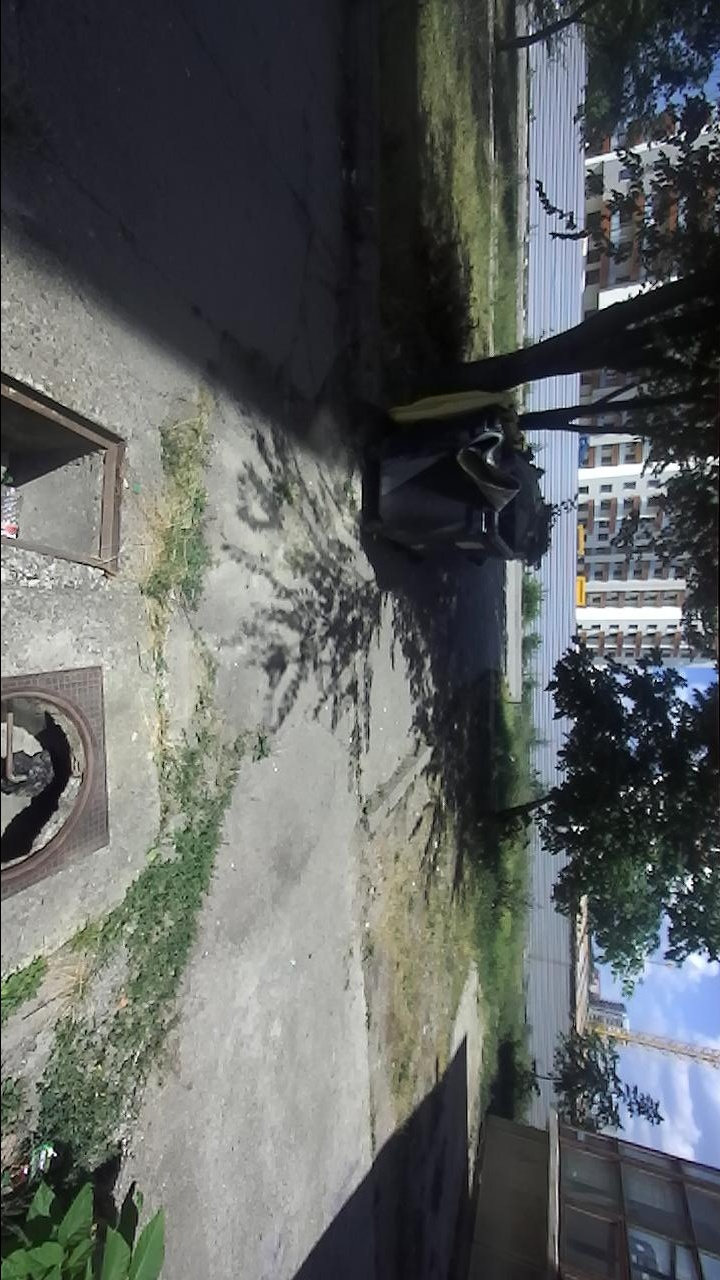drain: (0, 369, 131, 577), (2, 689, 98, 889)
